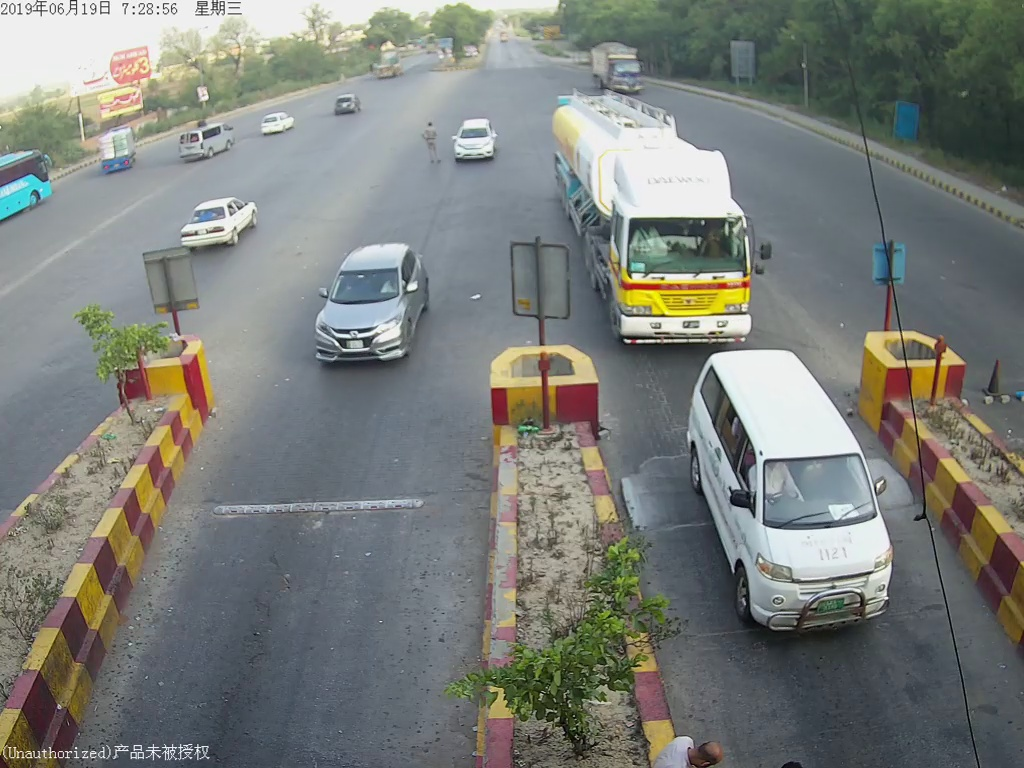Cat-1: (683, 348, 921, 645), (310, 241, 441, 371), (446, 114, 502, 167)
Cat-5: (579, 88, 764, 343)
